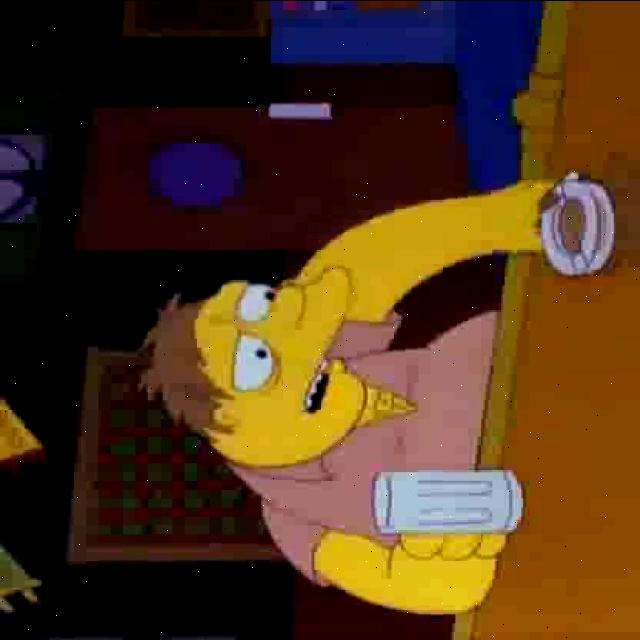Barney Gumble: (140, 264, 372, 464)
